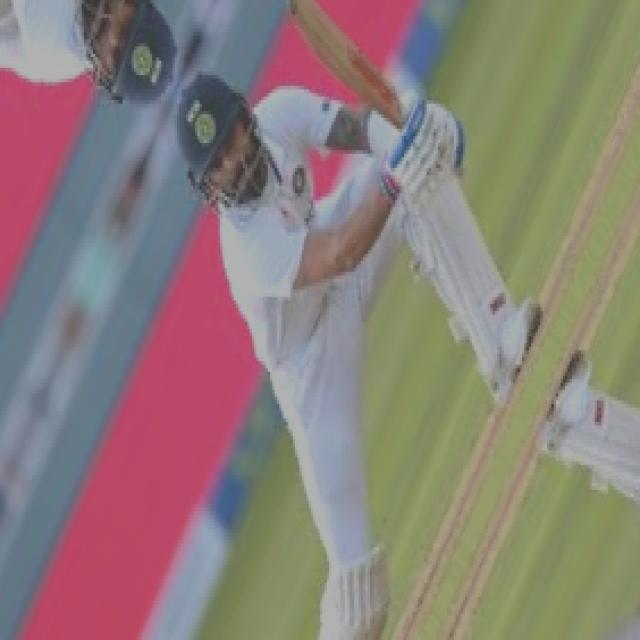bat: (286, 0, 408, 127)
